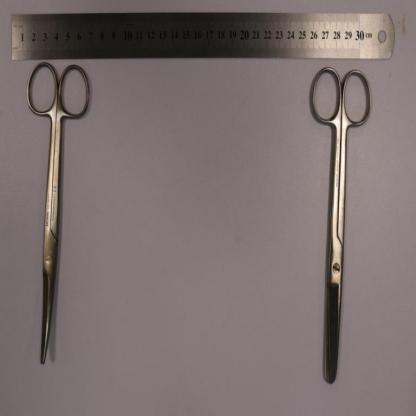Curved Mayo Scissors: (27, 62, 91, 366)
Dressing Scissors: (310, 65, 372, 383)
